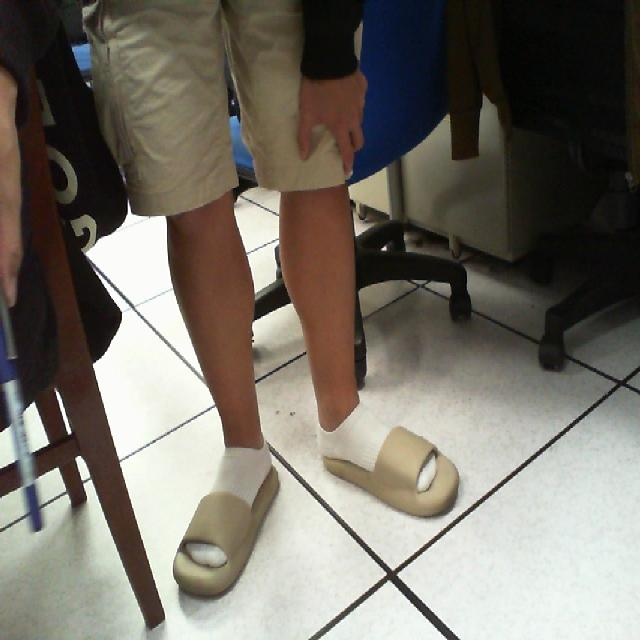Pen: (0, 266, 56, 548)
